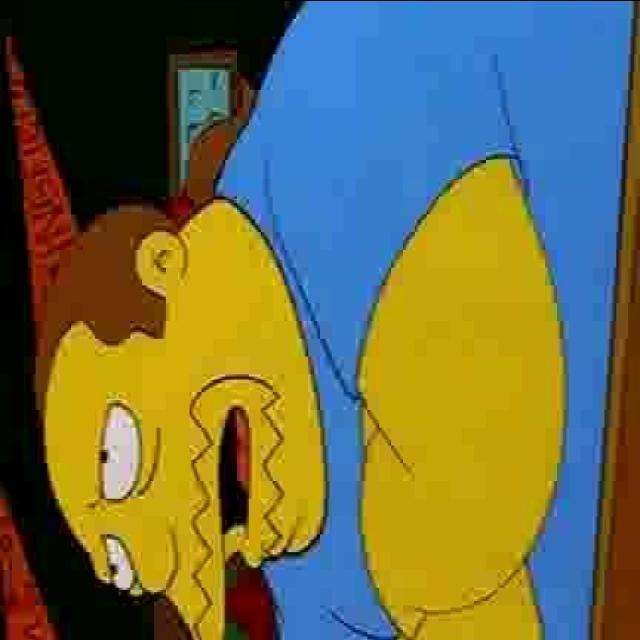Comic Book Guy: (28, 152, 333, 638)
